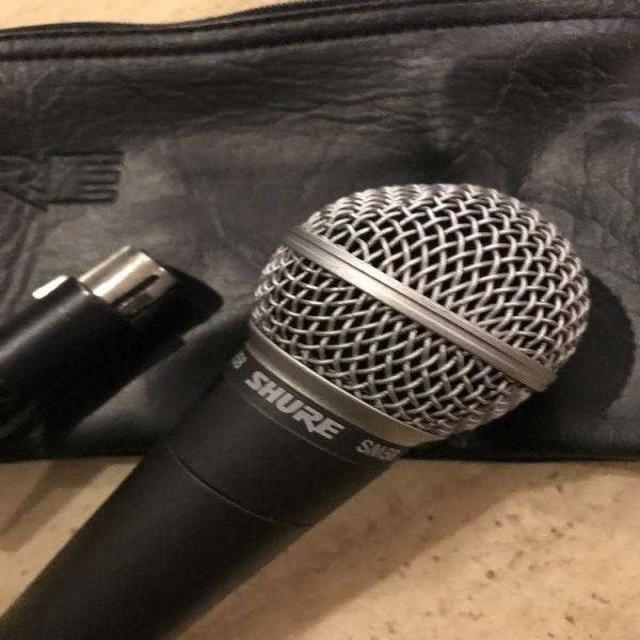microphone: (99, 166, 601, 634)
